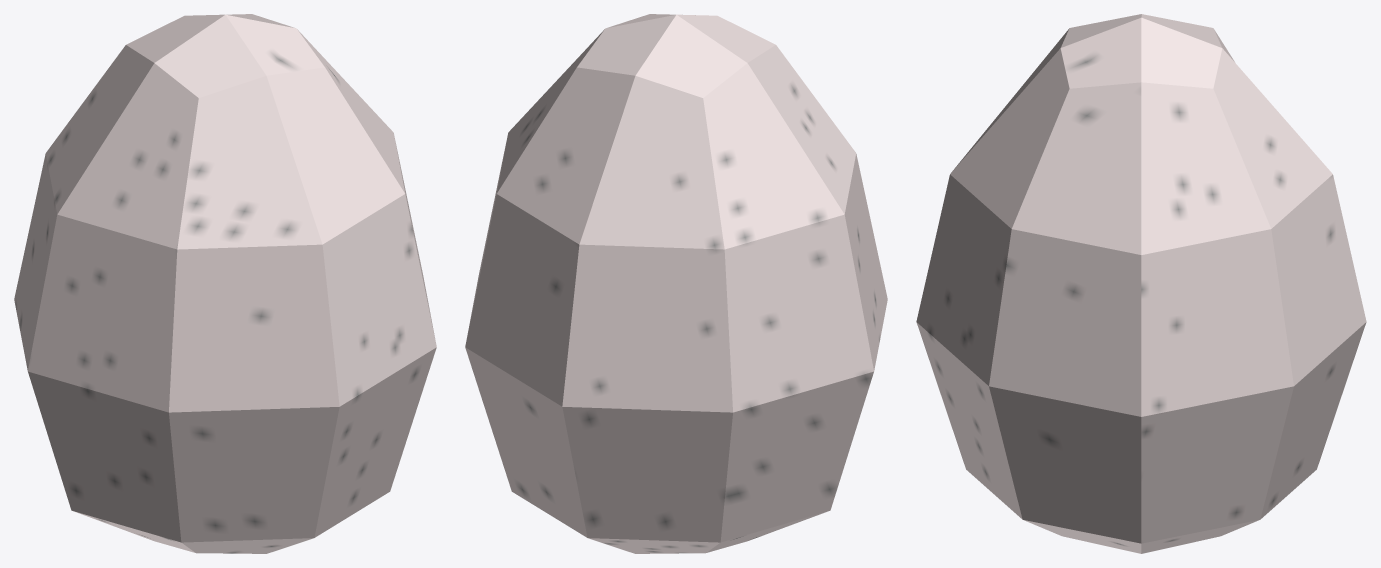
File: egg1.fbx
3 renders of one model, left to right at view 1: azimuth 30°, elevation 25°; view 2: azimuth 150°, elevation 25°; view 3: azimuth 270°, elevation 25°, orthographic.
Visible parts, largest first — view 1: Cube; view 2: Cube; view 3: Cube.
Part boxes in pixels (box(x1,y1,x2,y2)): Cube: box(14, 14, 436, 553); Cube: box(465, 14, 887, 553); Cube: box(916, 14, 1366, 553).
Size of the model in its own units: 200 by 255 by 200.
1 material, 1 textured.
